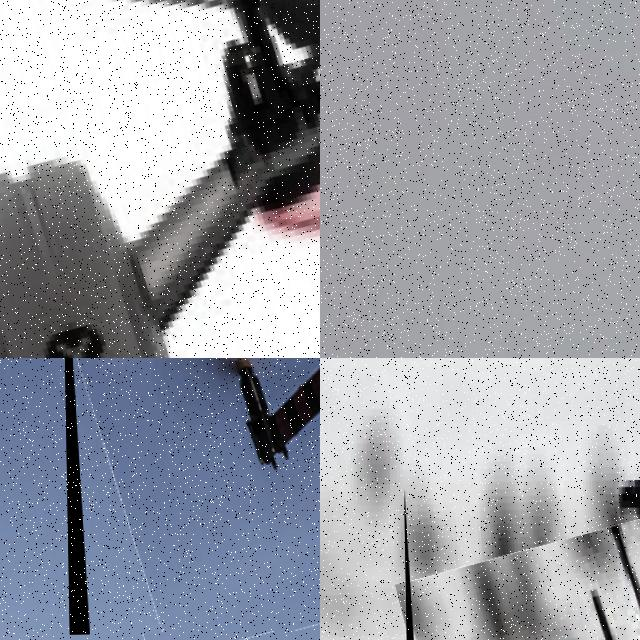drone: (0, 0, 320, 358), (61, 358, 320, 634), (403, 478, 640, 640)
